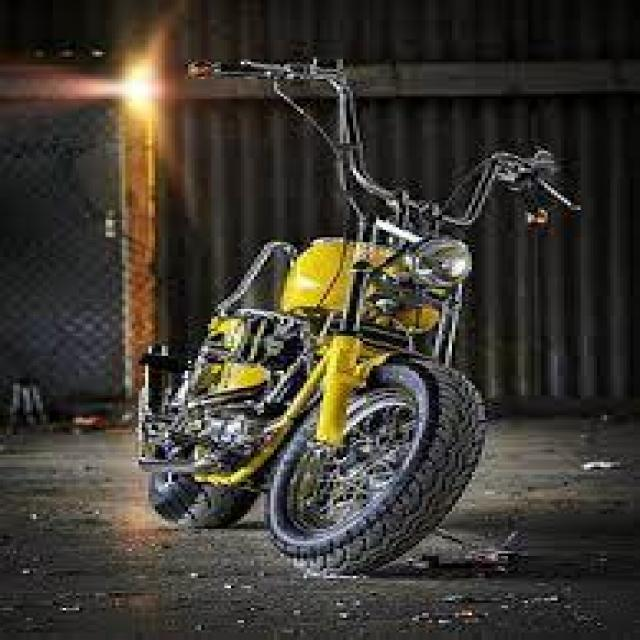Bike: (140, 58, 580, 568)
